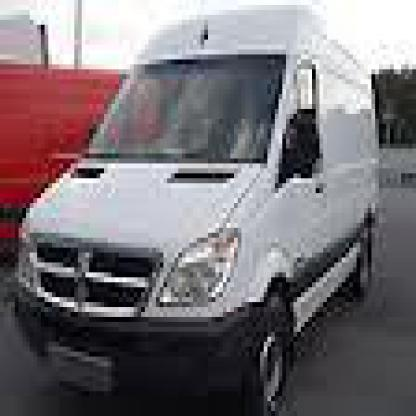Vehicle: (15, 10, 394, 406)
